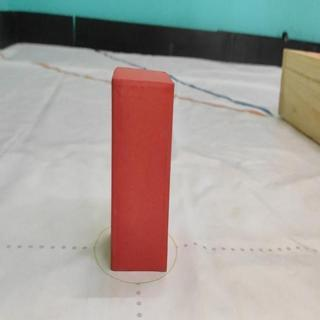redbox: (110, 66, 174, 273)
